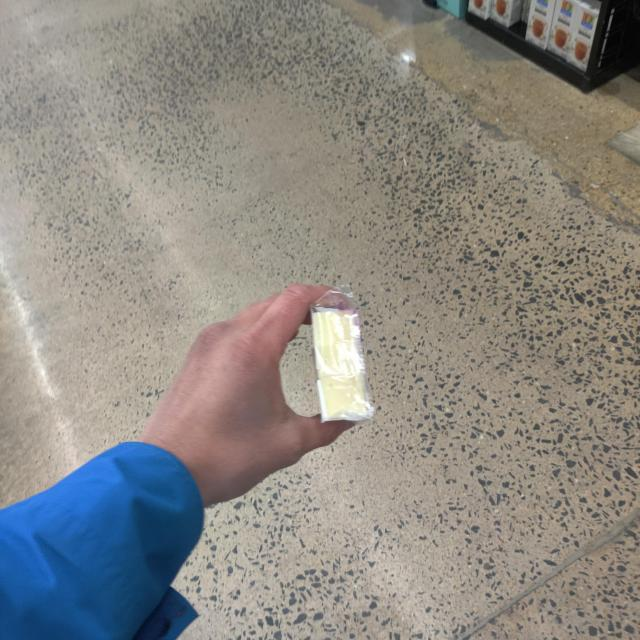Cheese: (306, 290, 380, 429)
